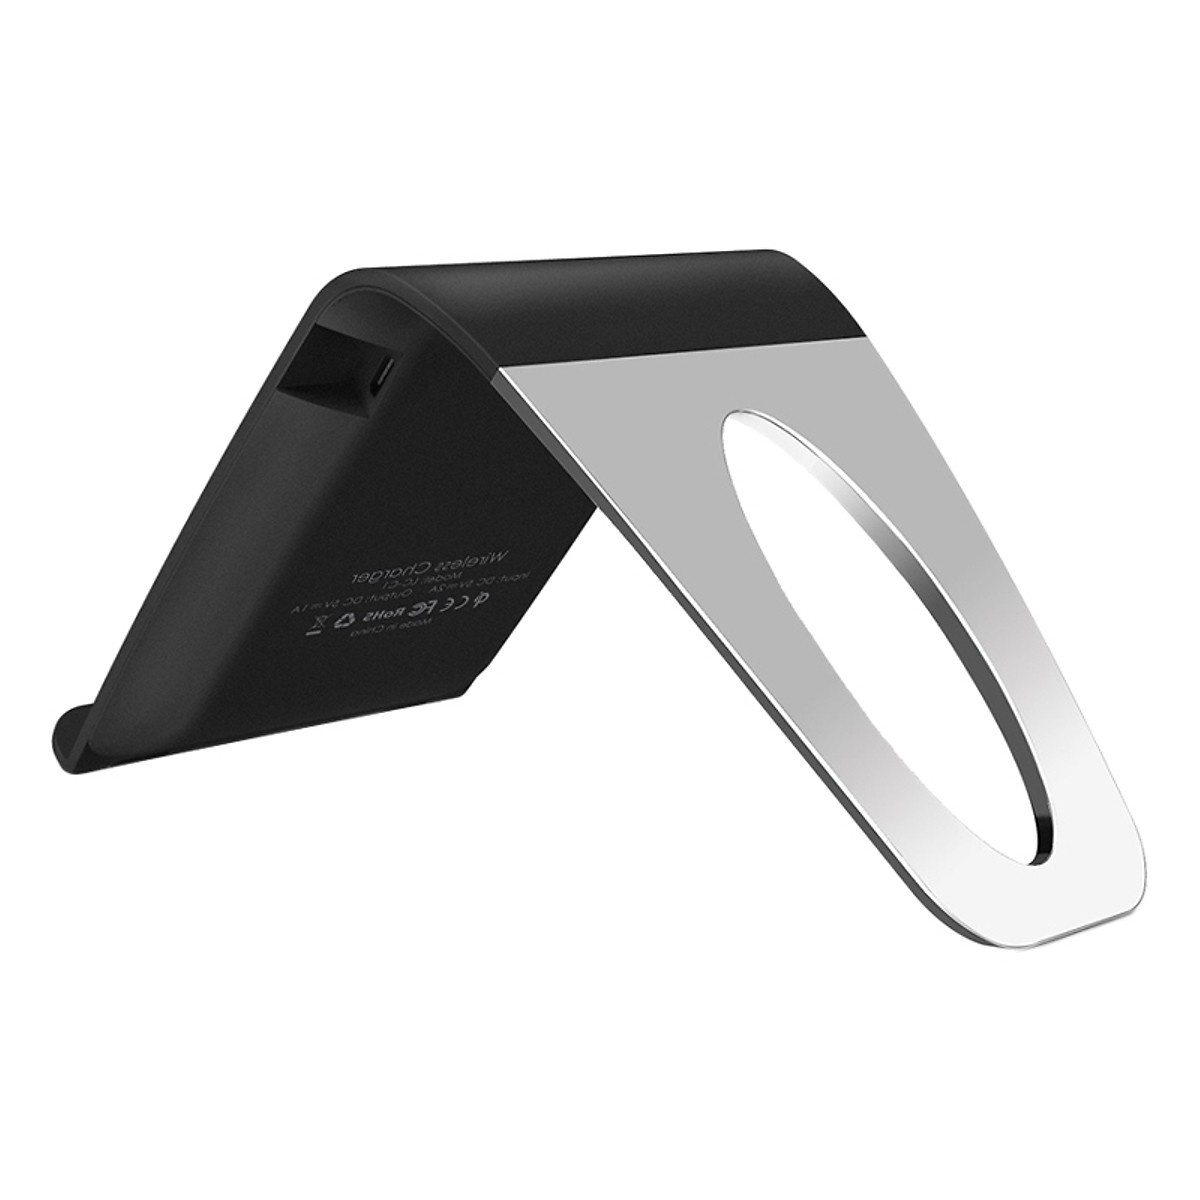Aukey: (188, 505, 559, 734)
